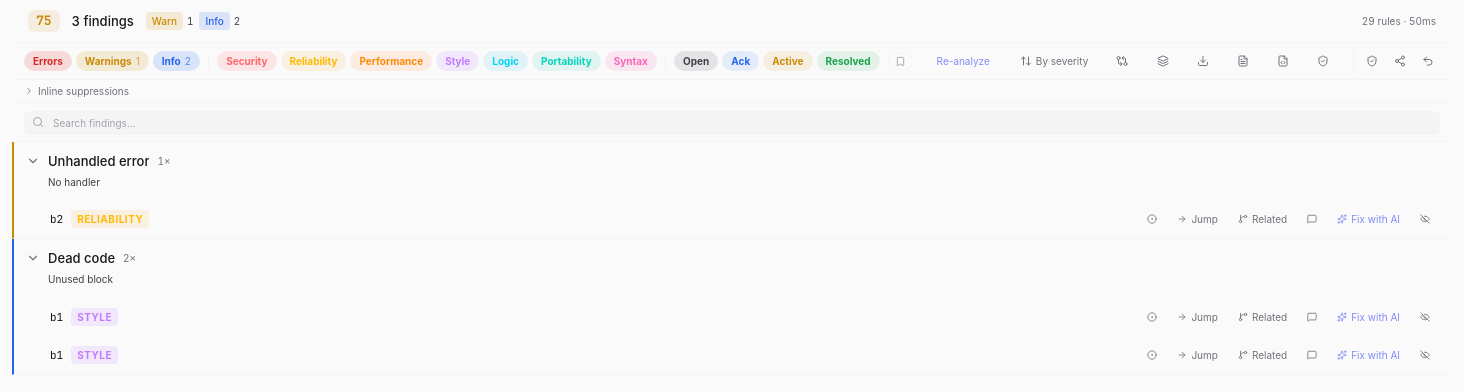
Test: FindingsTab › restores all findings when Layers toggle is clicked again
This screenshot has width=1464, height=392.
Check: the text "Unhandled error" is shown, box [48,152,149,170]
Step 1. Click the button named "Toggle duplicate grouping" → (1162, 61), box [1150,51,1174,71]
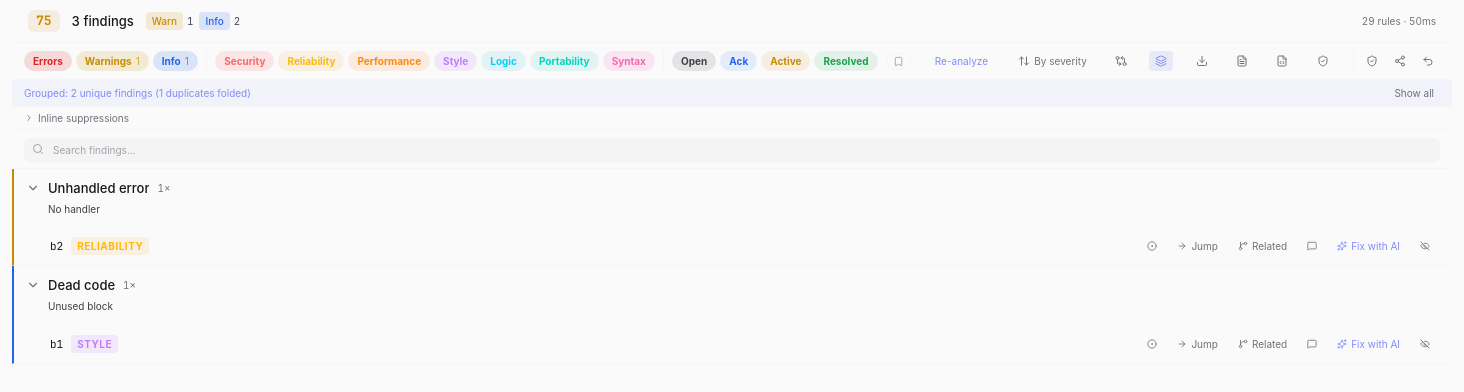
Check: the text "Grouped: 2 unique findings (1 duplicates folded)" is shown, box [24,86,251,100]
Step 2. Click the button named "Toggle duplicate grouping" → (1161, 61), box [1149,51,1173,71]
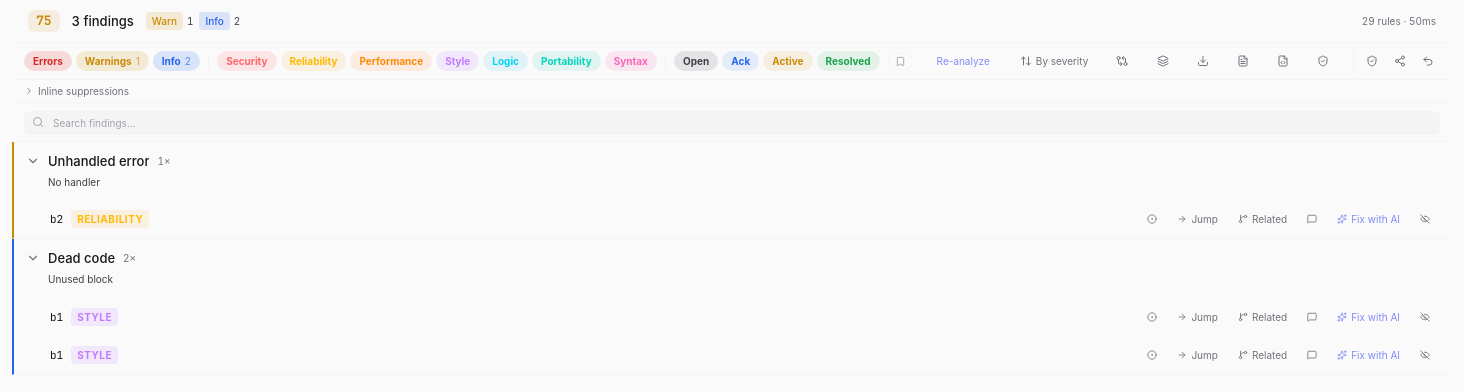
Check: the text "Grouped" is gone
